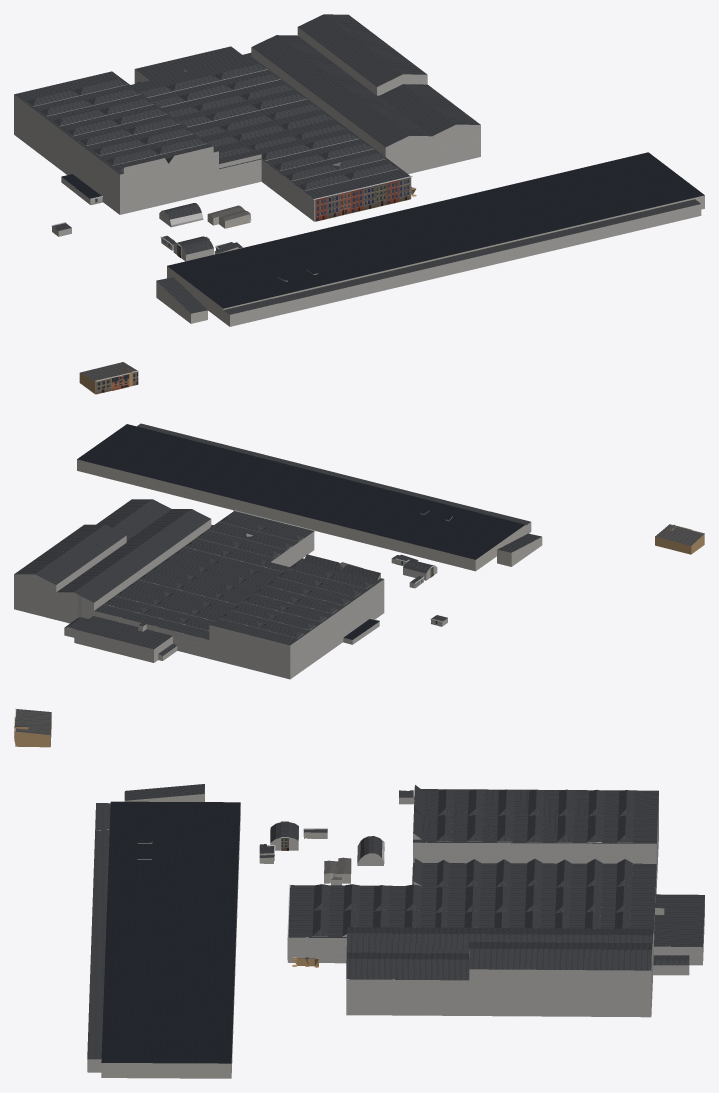
The picture shows the model from 3 angles, top to bottom: view 1: azimuth 30°, elevation 25°; view 2: azimuth 150°, elevation 25°; view 3: azimuth 270°, elevation 25°; orthographic projection. The views are drawn at different scales.
Visible parts, largest first — view 1: bldg_6008396361_roof, bldg_6004321640_roof, bldg_6008396361, bldg_6000325000, bldg_6000325000_roof, bldg_6008396361_facade0, bldg_6004321640, bldg_6004321636_roof, bldg_6004321636; view 2: bldg_6008396361_roof, bldg_6004321640_roof, bldg_6008396361, bldg_6004321640, bldg_6000325000_roof, bldg_6004321636, bldg_6004321613_roof, bldg_6004321613; view 3: bldg_6008396361_roof, bldg_6004321640_roof, bldg_6008396361, bldg_6000325000_roof, bldg_6004321640, bldg_6004321636_roof, bldg_6004321613_roof.
Part boxes in pixels (x1,y1,x2,y2): bldg_6008396361_roof: (14,14,480,198); bldg_6004321640_roof: (167,152,704,308); bldg_6008396361: (14,27,480,221); bldg_6000325000: (223,204,701,326); bldg_6000325000_roof: (224,199,700,314); bldg_6008396361_facade0: (313,176,412,221); bldg_6004321640: (167,195,704,321); bldg_6004321636_roof: (156,277,207,313); bldg_6004321636: (156,281,207,323); bldg_6008396361_roof: (14,499,383,655); bldg_6004321640_roof: (77,424,524,559); bldg_6008396361: (14,519,384,679); bldg_6004321640: (77,459,525,571); bldg_6000325000_roof: (137,423,530,525); bldg_6004321636: (497,537,542,566); bldg_6004321613_roof: (655,524,703,545); bldg_6004321613: (655,526,704,554); bldg_6008396361_roof: (288,785,704,980); bldg_6004321640_roof: (101,801,240,1063); bldg_6008396361: (288,789,704,1017); bldg_6000325000_roof: (87,803,110,1059); bldg_6004321640: (101,801,240,1078); bldg_6004321636_roof: (124,784,204,800); bldg_6004321613_roof: (15,709,51,735).
Size of the model in its own units: 347 by 24.48 by 285.
Materials: 19 (11 with a texture image).
